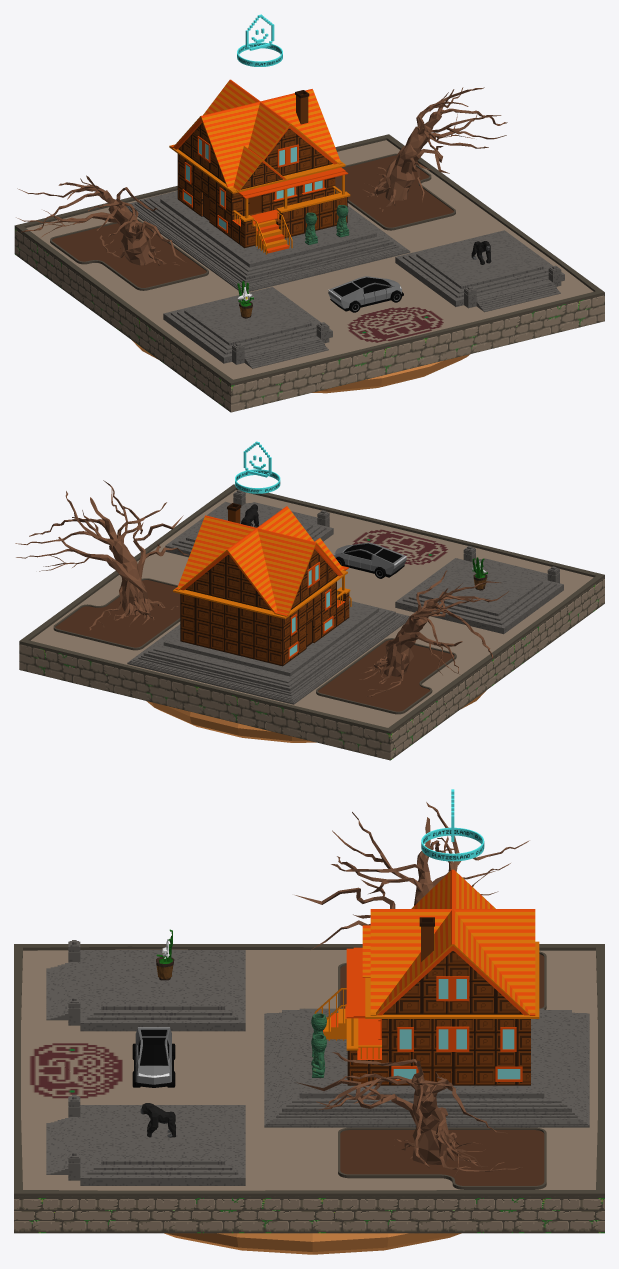
3 renders of one model, top to bottom at view 1: azimuth 30°, elevation 25°; view 2: azimuth 150°, elevation 25°; view 3: azimuth 270°, elevation 25°, orthographic. The views are drawn at different scales.
Parts seen in each view (by area): view 1: Cube.011, Cube, VEHICLES_CYBERTRUCK, UNDERGROUND_PIZZA, TYPE_PREMIUM; view 2: Cube.011, Cube, UNDERGROUND_PIZZA, VEHICLES_CYBERTRUCK, TYPE_PREMIUM; view 3: Cube.011, Cube, UNDERGROUND_PIZZA, VEHICLES_CYBERTRUCK, TYPE_PREMIUM, ANIMAL_GORILA.
Part boxes in pixels (x1=…): Cube.011: x1=14, y1=87, x2=604, y2=412; Cube: x1=169, y1=79, x2=350, y2=254; VEHICLES_CYBERTRUCK: x1=328, y1=276, x2=403, y2=312; UNDERGROUND_PIZZA: x1=132, y1=340, x2=470, y2=393; TYPE_PREMIUM: x1=237, y1=14, x2=282, y2=66; Cube.011: x1=15, y1=480, x2=604, y2=760; Cube: x1=173, y1=503, x2=351, y2=666; UNDERGROUND_PIZZA: x1=146, y1=690, x2=486, y2=742; VEHICLES_CYBERTRUCK: x1=333, y1=542, x2=406, y2=578; TYPE_PREMIUM: x1=235, y1=441, x2=280, y2=493; Cube.011: x1=14, y1=802, x2=604, y2=1233; Cube: x1=314, y1=869, x2=539, y2=1085; UNDERGROUND_PIZZA: x1=164, y1=1233, x2=461, y2=1254; VEHICLES_CYBERTRUCK: x1=132, y1=1027, x2=175, y2=1087; TYPE_PREMIUM: x1=421, y1=789, x2=484, y2=861; ANIMAL_GORILA: x1=140, y1=1103, x2=175, y2=1137.
Size of the model in its own units: 5099 by 2678 by 4000.
Materials: 36 (7 with a texture image).
